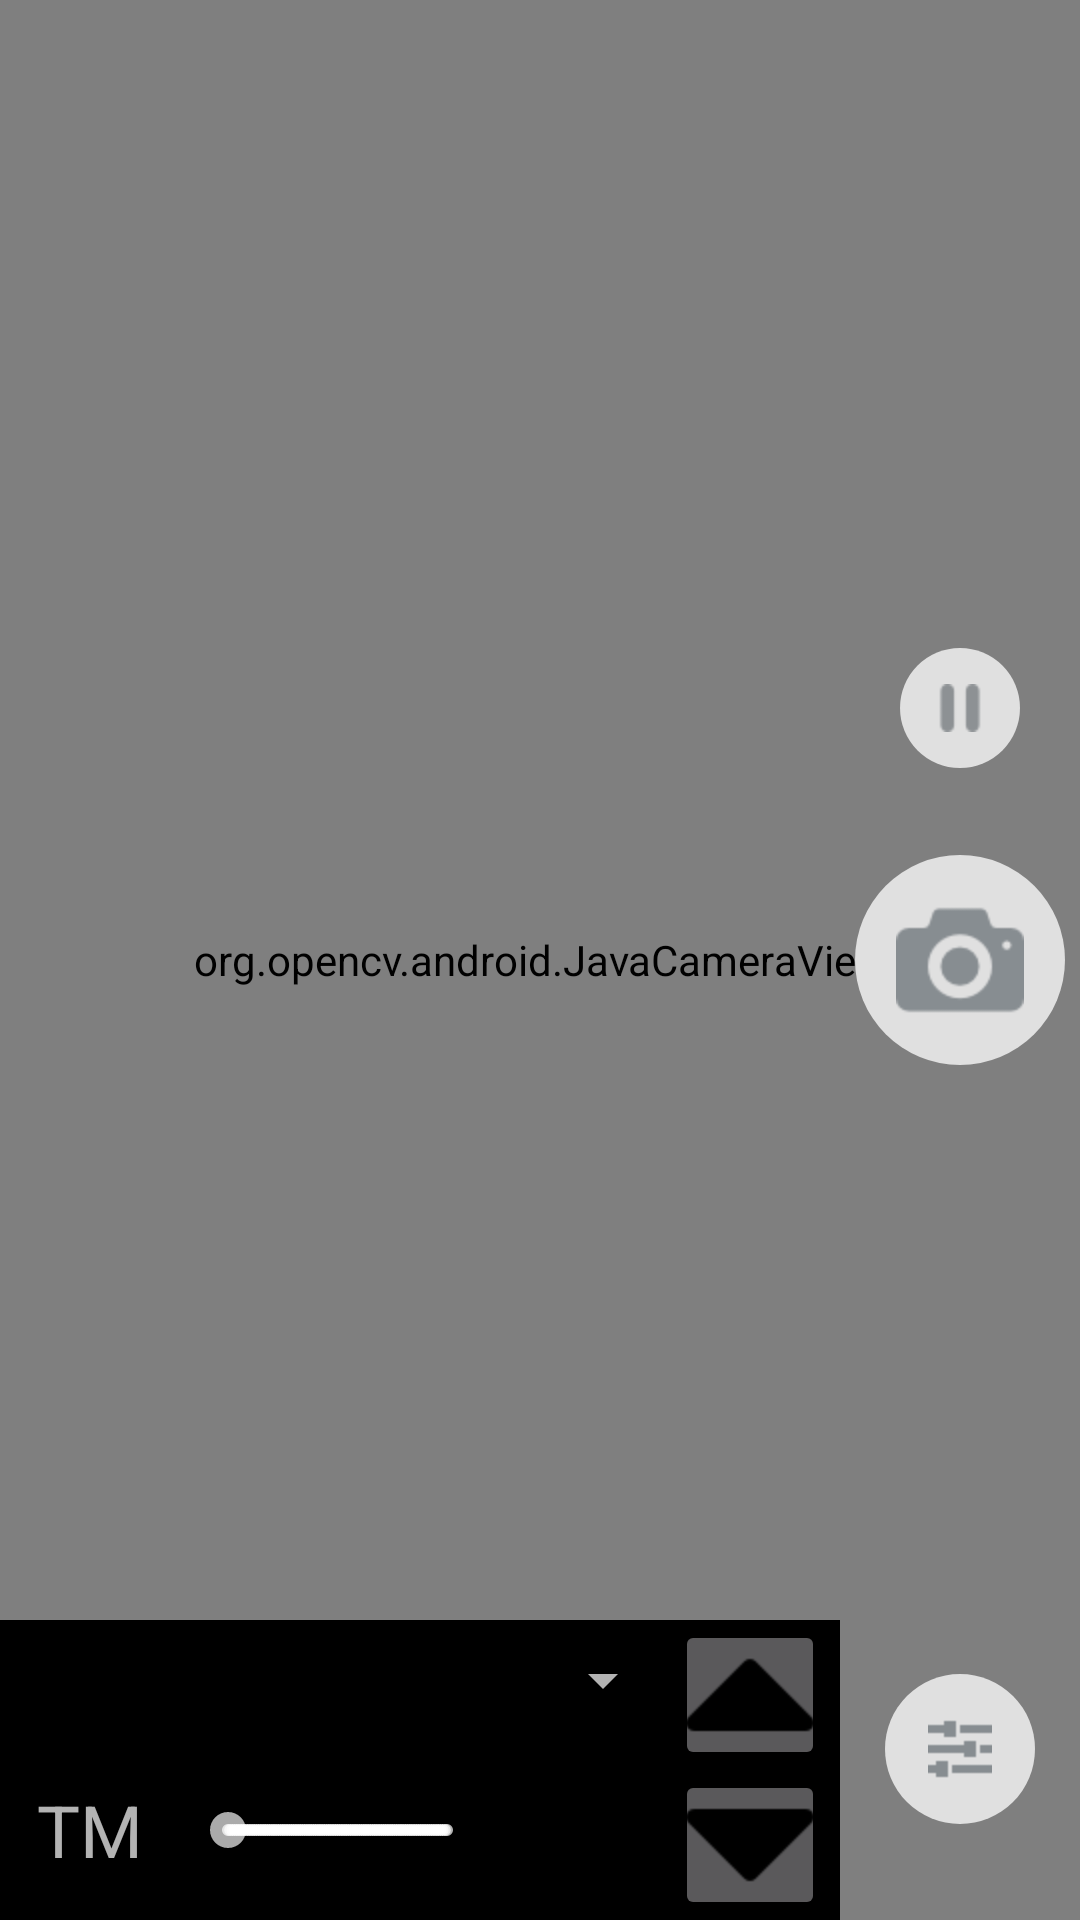

Screen size 1080px x 1920px. Icon name, then its box in pixels as (x1, y1, x2, y2):
buttoncamera: (855, 855, 1065, 1065)
buttonpause: (900, 648, 1020, 768)
down: (687, 1788, 813, 1902)
